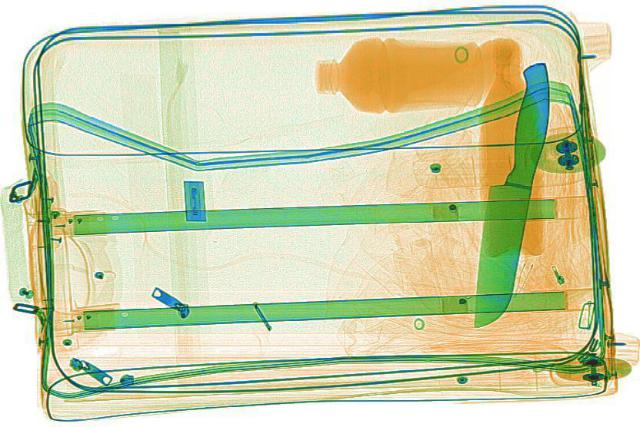Knife: (460, 58, 560, 327)
